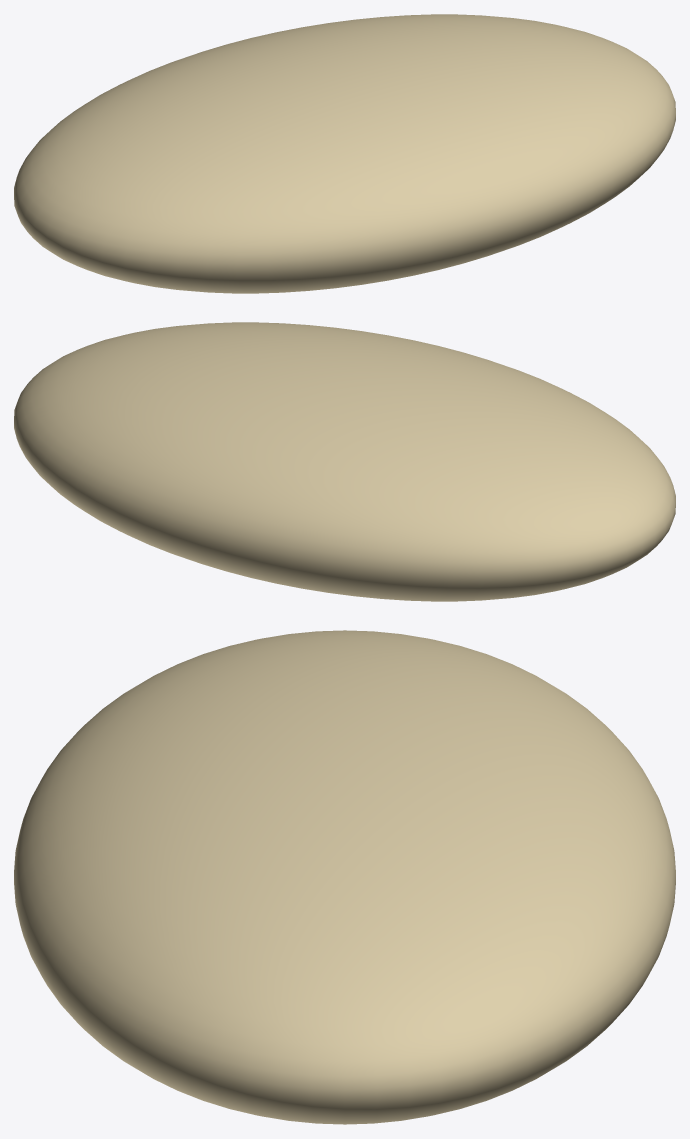
File: ato2_montinho_areia.glb
3 renders of one model, top to bottom at view 1: azimuth 30°, elevation 25°; view 2: azimuth 150°, elevation 25°; view 3: azimuth 270°, elevation 25°, orthographic. The views are drawn at different scales.
Visible parts, largest first — view 1: Malha_0; view 2: Malha_0; view 3: Malha_0.
Part boxes in pixels (x1=…): Malha_0: x1=14, y1=14, x2=675, y2=293; Malha_0: x1=14, y1=322, x2=675, y2=601; Malha_0: x1=14, y1=630, x2=675, y2=1124.
Size of the model in its own units: 1.4 by 0.35 by 0.899.
